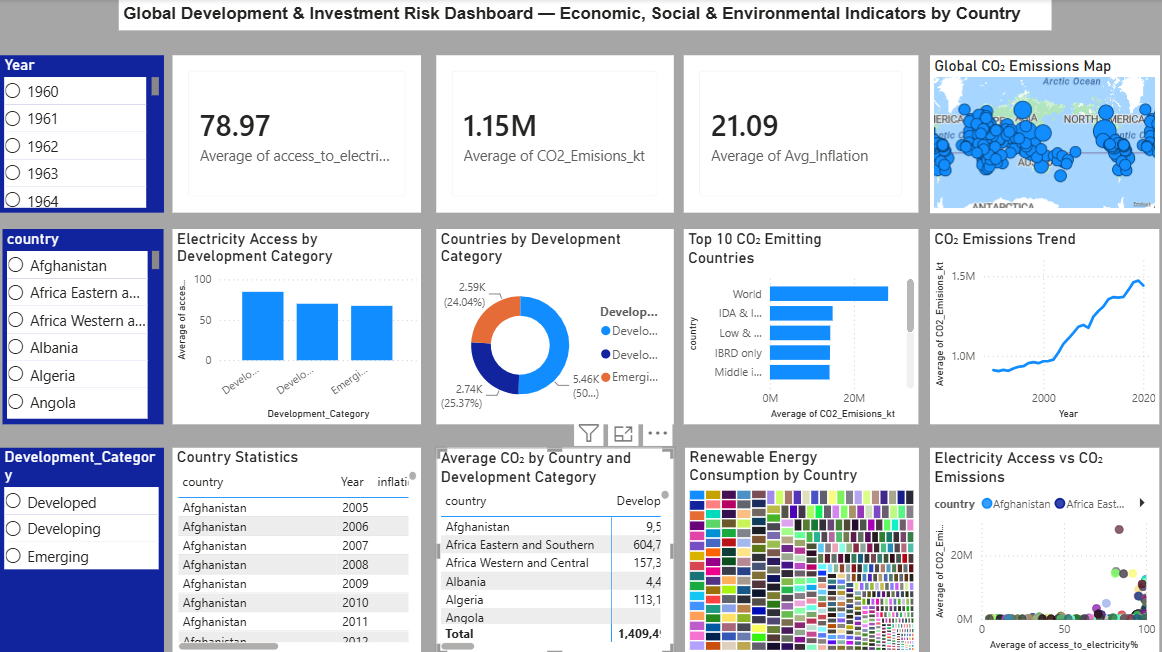

The dashboard page shown, as its layout file describes it:
{"tool":"powerbi","page":{"name":"Page 1","canvas":[1280,720],"ordinal":0},"visuals":[{"type":"textbox","box":[130.4,0,1023.7,34.3],"z":0},{"type":"cardVisual","fields":{"Data":["Avg(world_bank_development_indicato.access_to_electricity%)"]},"box":[189.4,61.7,273.1,172.9],"z":1000},{"type":"cardVisual","fields":{"Data":["Avg(world_bank_development_indicato.CO2_Emisions_kt)"]},"box":[478.9,61.7,260.7,172.9],"z":2000},{"type":"cardVisual","fields":{"Data":["Avg(Country_Summary.Avg_Inflation)"]},"box":[750.6,61.7,258,172.9],"z":3000},{"type":"barChart","title":"Top 10 CO₂ Emitting Countries","fields":{"Category":["world_bank_development_indicato.country"],"Y":["Avg(world_bank_development_indicato.CO2_Emisions_kt)"]},"box":[750.6,252.5,258,214.1],"z":4000},{"type":"clusteredColumnChart","title":"Electricity Access by Development Category","fields":{"Category":["world_bank_development_indicato.Development_Category"],"Y":["Avg(world_bank_development_indicato.access_to_electricity%)"]},"box":[189.4,252.5,273.1,214.1],"z":5000},{"type":"lineChart","title":"CO₂ Emissions Trend","fields":{"Y":["Avg(world_bank_development_indicato.CO2_Emisions_kt)"],"Category":["world_bank_development_indicato.Year"]},"box":[1020.9,252.5,252.5,214.1],"z":6000},{"type":"donutChart","title":"Countries by Development Category","fields":{"Category":["world_bank_development_indicato.Development_Category"],"Y":["CountNonNull(world_bank_development_indicato.country)"]},"box":[478.9,252.5,260.7,214.1],"z":7000},{"type":"tableEx","title":"Country Statistics","fields":{"Values":["world_bank_development_indicato.country","world_bank_development_indicato.Year","world_bank_development_indicato.inflation_annual%","world_bank_development_indicato.CO2_Emisions_kt","world_bank_development_indicato.access_to_electricity%"]},"box":[189.4,492.6,273.1,227.8],"z":8000},{"type":"pivotTable","title":"Average CO₂ by Country and Development Category","fields":{"Rows":["world_bank_development_indicato.country"],"Columns":["world_bank_development_indicato.Development_Category"],"Values":["Avg(world_bank_development_indicato.CO2_Emisions_kt)"]},"box":[478.9,492.6,260.7,227.8],"z":9000},{"type":"azureMap","title":"Global CO₂ Emissions Map","fields":{"Category":["world_bank_development_indicato.country"],"Size":["Avg(world_bank_development_indicato.CO2_Emisions_kt)"]},"box":[1020.9,61.7,252.5,172.9],"z":10000},{"type":"scatterChart","title":"Electricity Access vs CO₂ Emissions","fields":{"X":["Avg(world_bank_development_indicato.access_to_electricity%)"],"Y":["Avg(world_bank_development_indicato.CO2_Emisions_kt)"],"Series":["world_bank_development_indicato.country"]},"box":[1020.9,492.6,252.5,227.8],"z":11000},{"type":"treemap","title":"Renewable Energy Consumption by Country","fields":{"Values":["Avg(world_bank_development_indicato.Renewable_energy_consumption_pct)"],"Group":["world_bank_development_indicato.Development_Category Hierarchy.Development_Category","world_bank_development_indicato.country"]},"box":[752,492.6,256.6,227.8],"z":12000},{"type":"listSlicer","fields":{"Values":["world_bank_development_indicato.Year"]},"box":[0,61.7,179.8,172.9],"z":13000},{"type":"listSlicer","fields":{"Values":["world_bank_development_indicato.country"]},"box":[2.7,252.5,177,214.1],"z":14000},{"type":"listSlicer","fields":{"Values":["world_bank_development_indicato.Development_Category"]},"box":[0,492.6,179.8,227.8],"z":15000}]}

Visuals, with their boxes in screenshot pixels (x1, y1, x2, y2), scaled from the page's 1280x720 canvas onto the 1162x652 screenshot:
textbox: [x1=118, y1=0, x2=1048, y2=31]
cardVisual - Avg(world_bank_development_indicato.access_to_electricity%): [x1=172, y1=56, x2=420, y2=212]
cardVisual - Avg(world_bank_development_indicato.CO2_Emisions_kt): [x1=435, y1=56, x2=671, y2=212]
cardVisual - Avg(Country_Summary.Avg_Inflation): [x1=681, y1=56, x2=916, y2=212]
"Top 10 CO₂ Emitting Countries" barChart: [x1=681, y1=229, x2=916, y2=423]
"Electricity Access by Development Category" clusteredColumnChart: [x1=172, y1=229, x2=420, y2=423]
"CO₂ Emissions Trend" lineChart: [x1=927, y1=229, x2=1156, y2=423]
"Countries by Development Category" donutChart: [x1=435, y1=229, x2=671, y2=423]
"Country Statistics" tableEx: [x1=172, y1=446, x2=420, y2=651]
"Average CO₂ by Country and Development Category" pivotTable: [x1=435, y1=446, x2=671, y2=651]
"Global CO₂ Emissions Map" azureMap: [x1=927, y1=56, x2=1156, y2=212]
"Electricity Access vs CO₂ Emissions" scatterChart: [x1=927, y1=446, x2=1156, y2=651]
"Renewable Energy Consumption by Country" treemap: [x1=683, y1=446, x2=916, y2=651]
listSlicer - world_bank_development_indicato.Year: [x1=0, y1=56, x2=163, y2=212]
listSlicer - world_bank_development_indicato.country: [x1=2, y1=229, x2=163, y2=423]
listSlicer - world_bank_development_indicato.Development_Category: [x1=0, y1=446, x2=163, y2=651]
